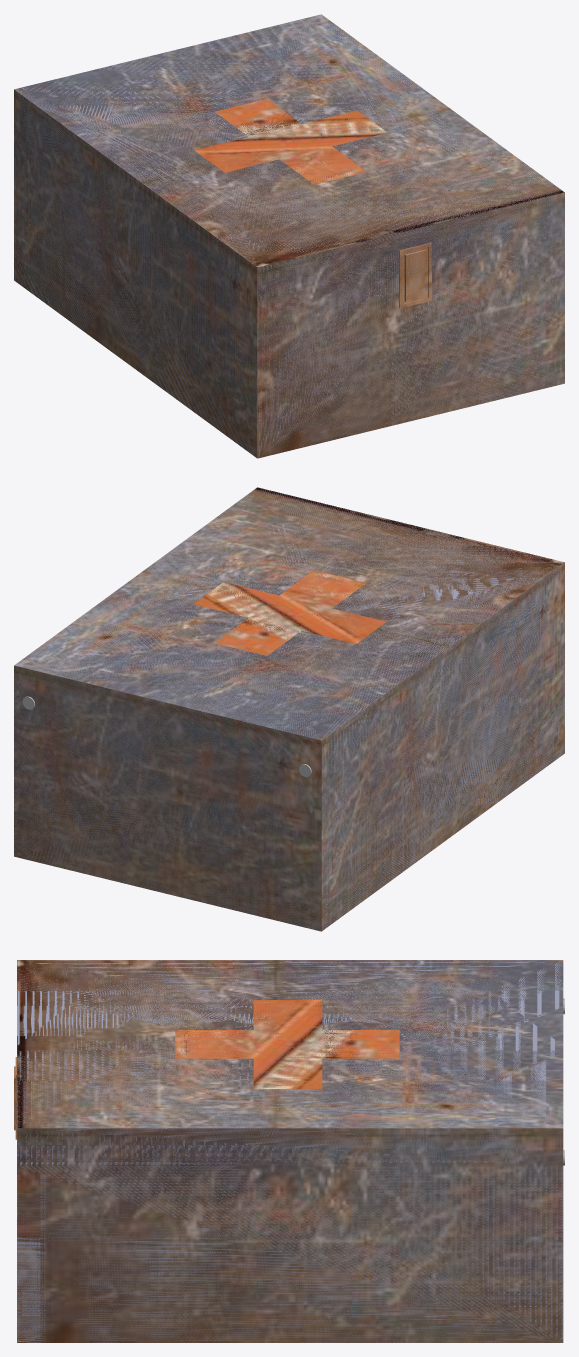
3 renders of one model, top to bottom at view 1: azimuth 30°, elevation 25°; view 2: azimuth 150°, elevation 25°; view 3: azimuth 270°, elevation 25°, orthographic. The views are drawn at different scales.
Parts seen in each view (by area): view 1: group_0 (×4); view 2: group_0 (×2); view 3: group_0 (×2).
Boxes of the visible parts, box(x1,y1,x2,y2) form: group_0 (×4): box(14, 14, 564, 458); group_0 (×2): box(14, 487, 564, 931); group_0 (×2): box(17, 960, 563, 1342).
Bounding box in the file's own units: 16 × 22.12 × 9.5.
